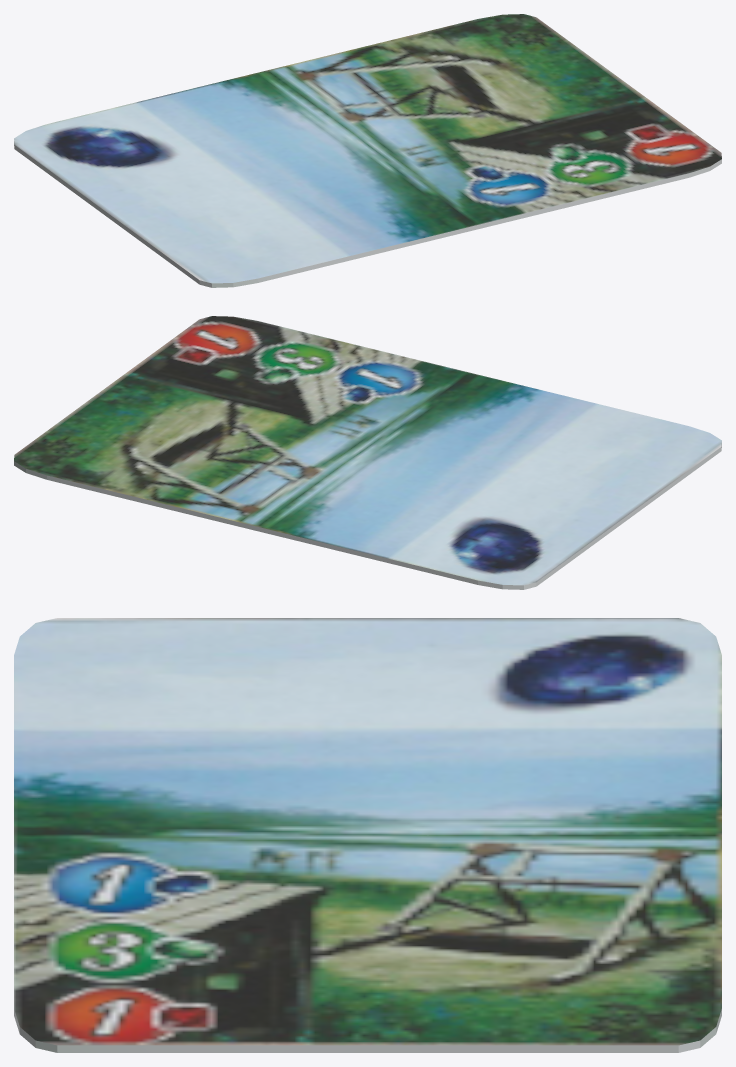
3 views of the same model, one above another, from view 1: azimuth 30°, elevation 25°; view 2: azimuth 150°, elevation 25°; view 3: azimuth 270°, elevation 25° (orthographic). The views are drawn at different scales.
Visible parts, largest first — view 1: Card1; view 2: Card1; view 3: Card1.
Boxes of the visible parts, x1,y1,x2,y2 form: Card1: (14, 14, 721, 287); Card1: (14, 316, 721, 589); Card1: (14, 618, 721, 1052).
Size of the model in its own units: 700 by 5.74 by 490.
